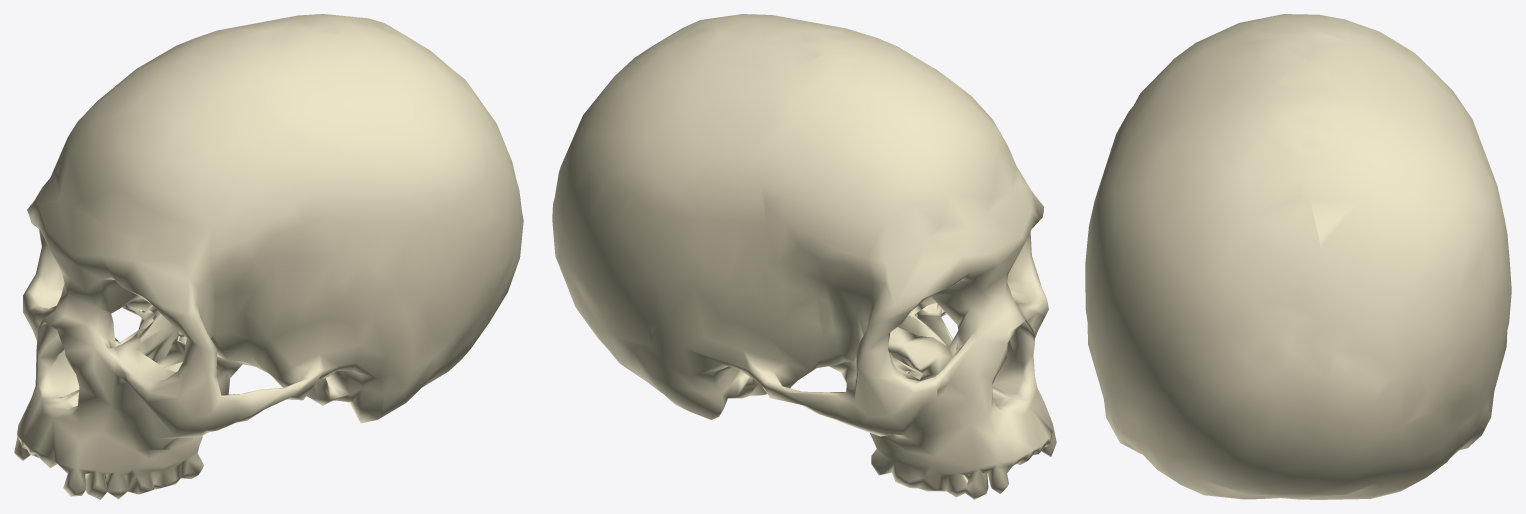
File: vLCA1.glb
The picture shows the model from 3 angles, left to right: view 1: azimuth 30°, elevation 25°; view 2: azimuth 150°, elevation 25°; view 3: azimuth 270°, elevation 25°; orthographic projection. The views are drawn at different scales.
Size of the model in its own units: 0.19 by 0.1518 by 0.1315.
